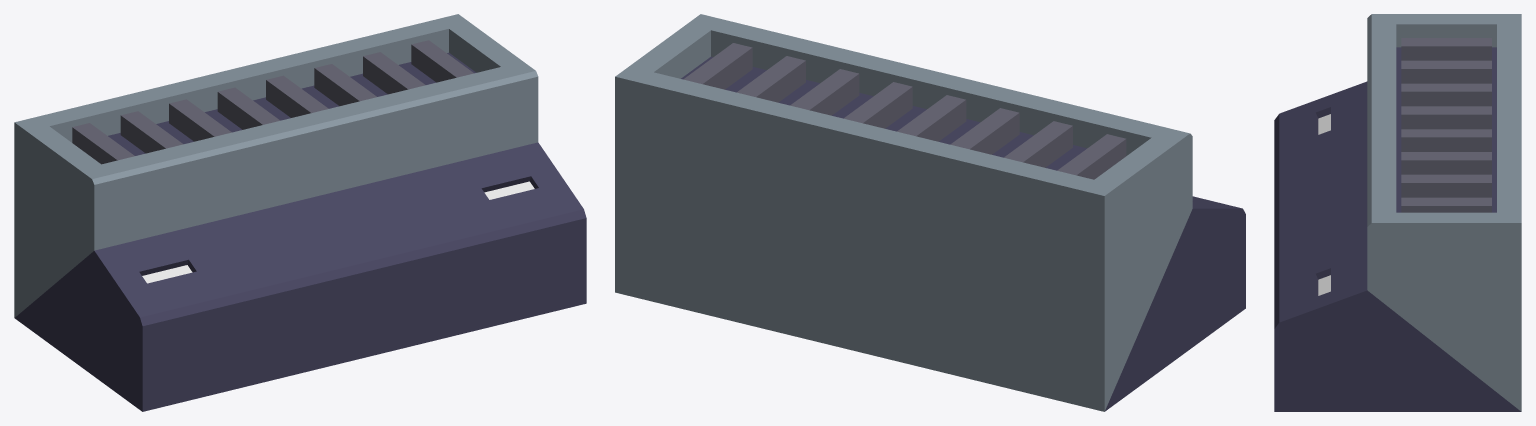
File: RangeDecorate.fbx
3 renders of one model, left to right at view 1: azimuth 30°, elevation 25°; view 2: azimuth 150°, elevation 25°; view 3: azimuth 270°, elevation 25°, orthographic. The views are drawn at different scales.
Parts seen in each view (by area): view 1: Cube.006; view 2: Cube.006; view 3: Cube.006.
Boxes of the visible parts, x1,y1,x2,y2 form: Cube.006: (14, 14, 586, 411); Cube.006: (615, 14, 1245, 411); Cube.006: (1274, 14, 1521, 411).
Bounding box in the file's own units: 200 × 84.3 × 100.
